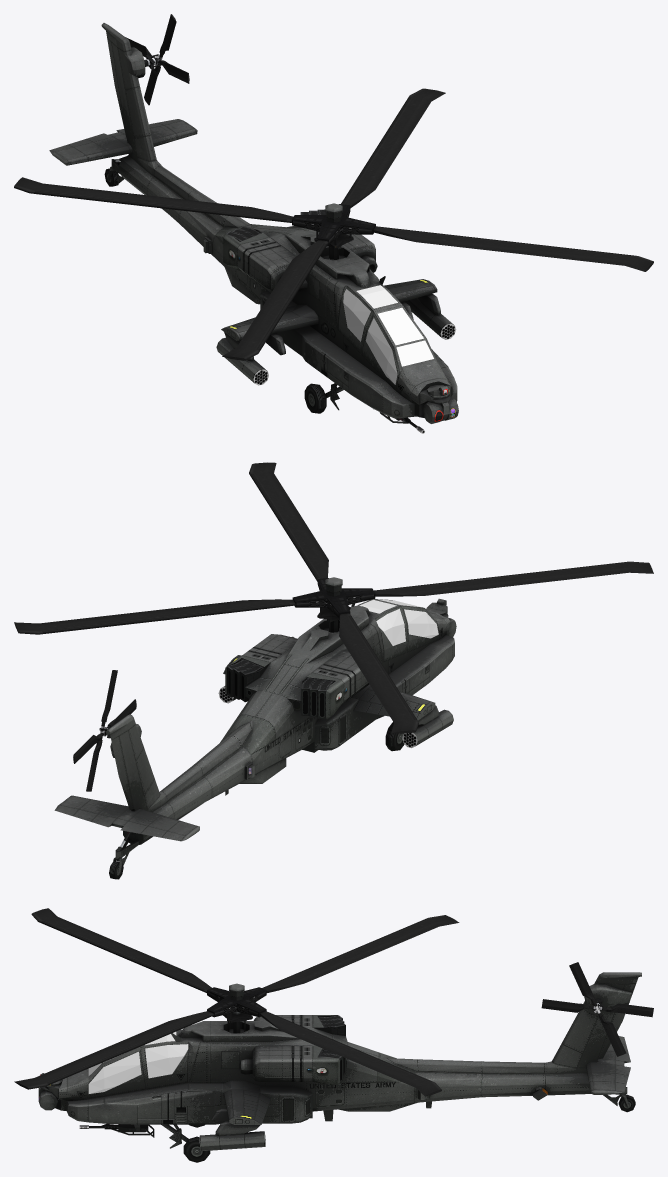
File: apache_1.obj
The picture shows the model from 3 angles, top to bottom: view 1: azimuth 30°, elevation 25°; view 2: azimuth 150°, elevation 25°; view 3: azimuth 270°, elevation 25°; orthographic projection. The views are drawn at different scales.
Parts seen in each view (by area): view 1: hull_lambert2_0, main_rotor_lambert2_0, glass_phong1_0, tail_rotor_lambert2_0; view 2: hull_lambert2_0, main_rotor_lambert2_0, glass_phong1_0, tail_rotor_lambert2_0; view 3: hull_lambert2_0, main_rotor_lambert2_0, glass_phong1_0, tail_rotor_lambert2_0.
Boxes of the visible parts, x1=… form: hull_lambert2_0: x1=49, y1=23, x2=458, y2=433; main_rotor_lambert2_0: x1=14, y1=88, x2=653, y2=360; glass_phong1_0: x1=343, y1=285, x2=433, y2=384; tail_rotor_lambert2_0: x1=125, y1=14, x2=189, y2=105; hull_lambert2_0: x1=54, y1=577, x2=456, y2=879; main_rotor_lambert2_0: x1=14, y1=462, x2=653, y2=733; glass_phong1_0: x1=359, y1=599, x2=438, y2=645; tail_rotor_lambert2_0: x1=73, y1=670, x2=136, y2=791; hull_lambert2_0: x1=38, y1=972, x2=641, y2=1162; main_rotor_lambert2_0: x1=14, y1=908, x2=459, y2=1096; glass_phong1_0: x1=88, y1=1031, x2=188, y2=1093; tail_rotor_lambert2_0: x1=541, y1=962, x2=653, y2=1056.
Bounding box in the file's own units: 9.75 × 4.73 × 14.
2 materials, 1 textured.
